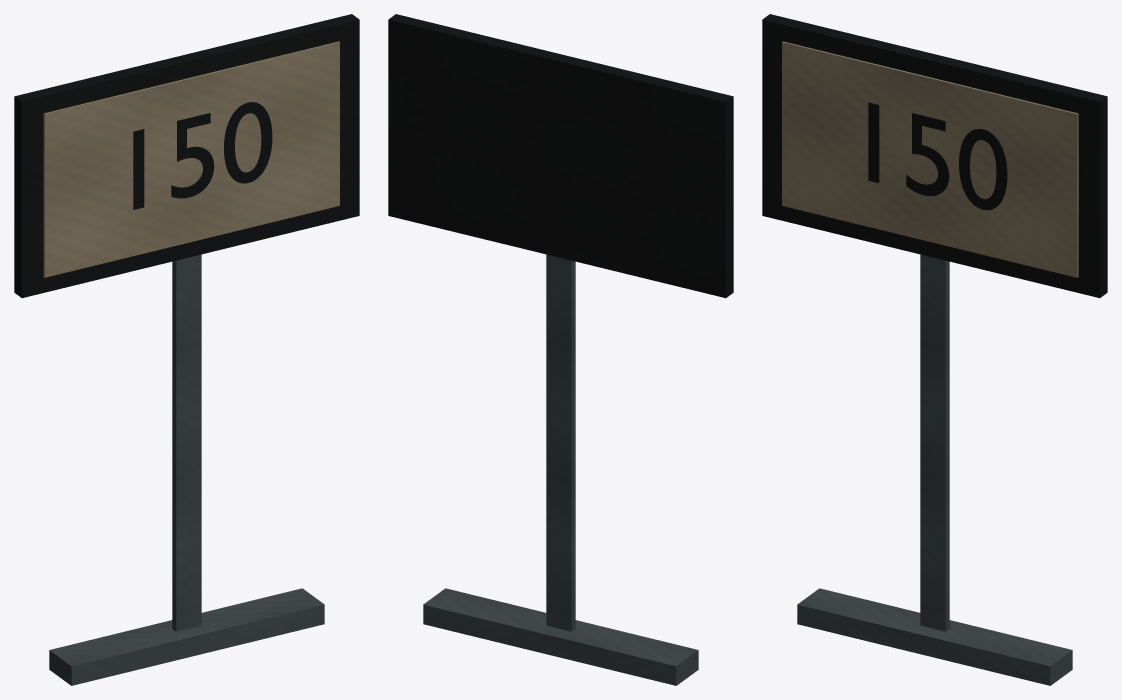
The model's file is braking-board-150.glb.
3 renders of one model, left to right at view 1: azimuth 30°, elevation 25°; view 2: azimuth 150°, elevation 25°; view 3: azimuth 330°, elevation 25°, orthographic.
Visible parts, largest first — view 1: braking-board-150-distance-board_2, braking-board-150-distance-board_1, braking-board-150-distance-board_0, distance-150; view 2: braking-board-150-distance-board_1, braking-board-150-distance-board_0; view 3: braking-board-150-distance-board_2, braking-board-150-distance-board_1, braking-board-150-distance-board_0, distance-150.
Boxes of the visible parts, left/top/right/bottom form: braking-board-150-distance-board_2: left=43, top=41, right=339, bottom=277; braking-board-150-distance-board_1: left=14, top=14, right=359, bottom=298; braking-board-150-distance-board_0: left=49, top=254, right=324, bottom=685; distance-150: left=133, top=102, right=272, bottom=209; braking-board-150-distance-board_1: left=388, top=14, right=733, bottom=298; braking-board-150-distance-board_0: left=423, top=254, right=698, bottom=685; braking-board-150-distance-board_2: left=782, top=41, right=1078, bottom=277; braking-board-150-distance-board_1: left=762, top=14, right=1107, bottom=298; braking-board-150-distance-board_0: left=797, top=254, right=1072, bottom=685; distance-150: left=868, top=102, right=1007, bottom=210.
Size of the model in its own units: 1.05 by 1.75 by 0.12.
Materials: 3 (3 with a texture image).
